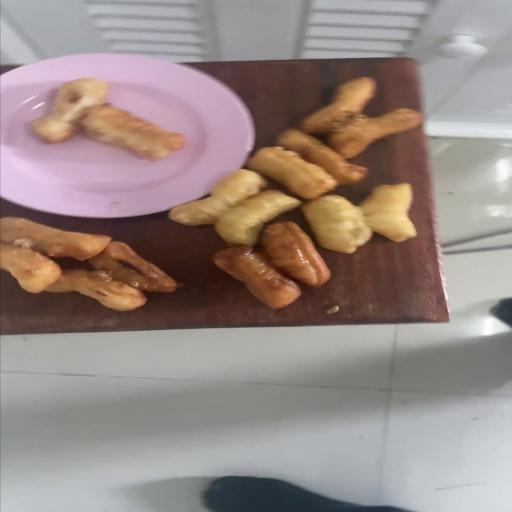street_golden_good: (0, 217, 179, 309)
